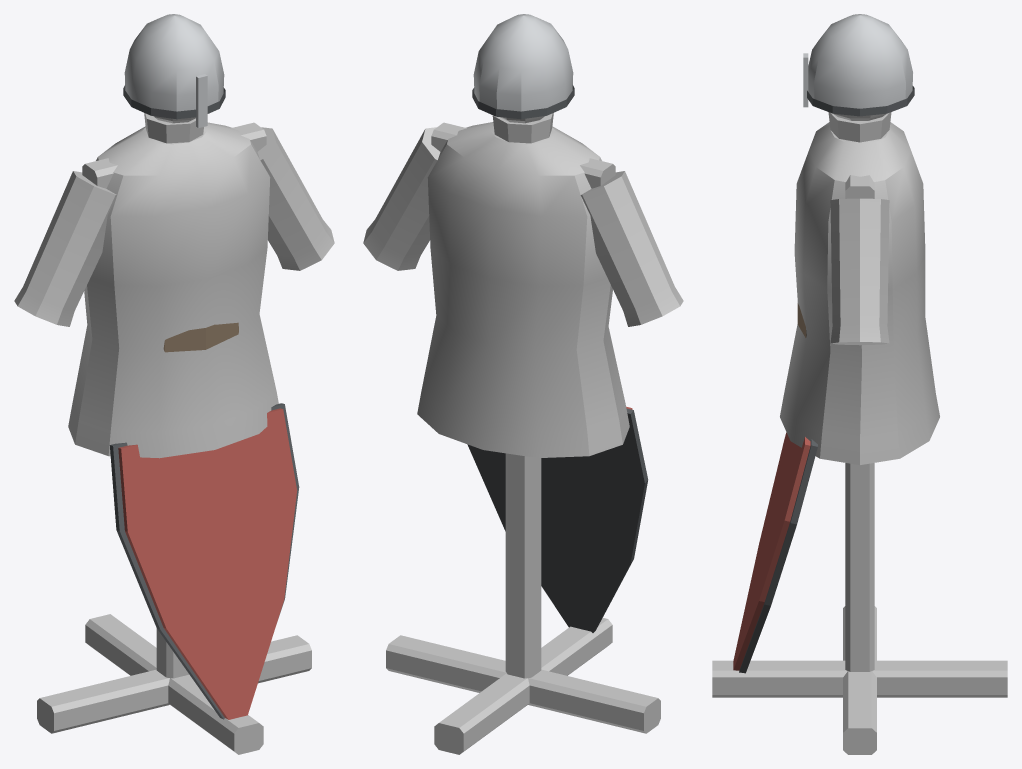
The model's file is furn_armour_stand.glb.
3 renders of one model, left to right at view 1: azimuth 30°, elevation 25°; view 2: azimuth 150°, elevation 25°; view 3: azimuth 270°, elevation 25°, orthographic.
Visible parts, largest first — view 1: furn_armour_stand; view 2: furn_armour_stand; view 3: furn_armour_stand.
Part boxes in pixels (bbox=[...]): furn_armour_stand: bbox=[14, 14, 334, 754]; furn_armour_stand: bbox=[363, 14, 683, 754]; furn_armour_stand: bbox=[712, 14, 1007, 754].
Size of the model in its own units: 0.8517 by 1.77 by 0.7.
